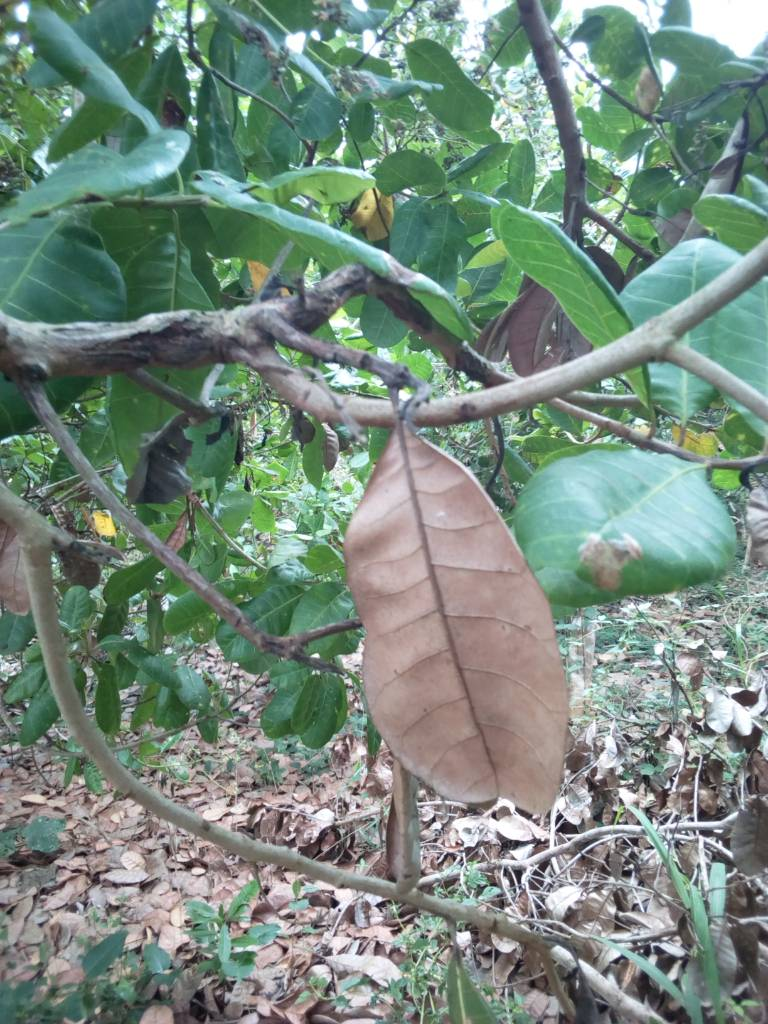Dessèchement des bourgeons: (260, 628, 371, 678), (201, 398, 253, 476)
